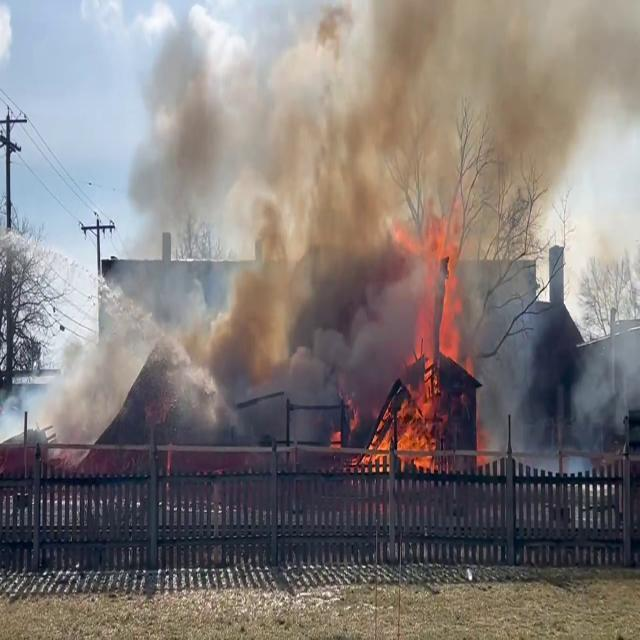Fire: (364, 346, 443, 486)
Smoke: (23, 3, 608, 423)
